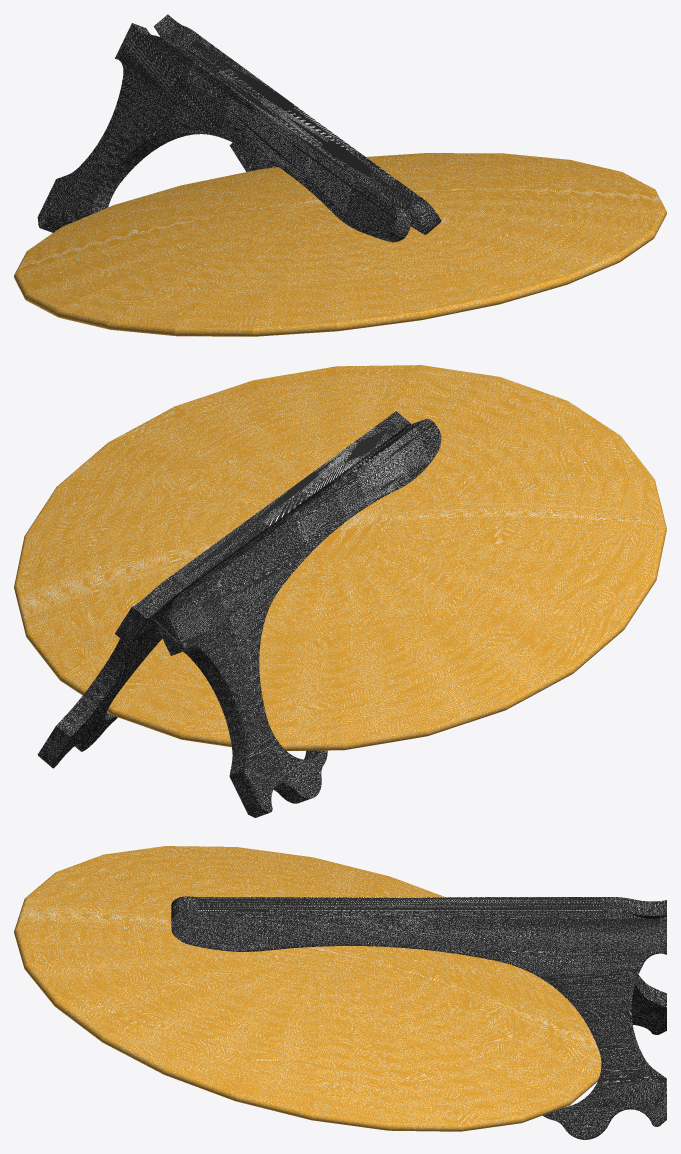
3 renders of one model, top to bottom at view 1: azimuth 30°, elevation 25°; view 2: azimuth 150°, elevation 25°; view 3: azimuth 270°, elevation 25°, orthographic. The views are drawn at different scales.
Visible parts, largest first — view 1: decorative plate on stand; view 2: decorative plate on stand; view 3: decorative plate on stand.
Part boxes in pixels (x1,y1,x2,y2): decorative plate on stand: (14,14,666,336); decorative plate on stand: (14,365,666,817); decorative plate on stand: (14,846,666,1139).
Bounding box in the file's own units: 8.6 × 2.92 × 9.2.
